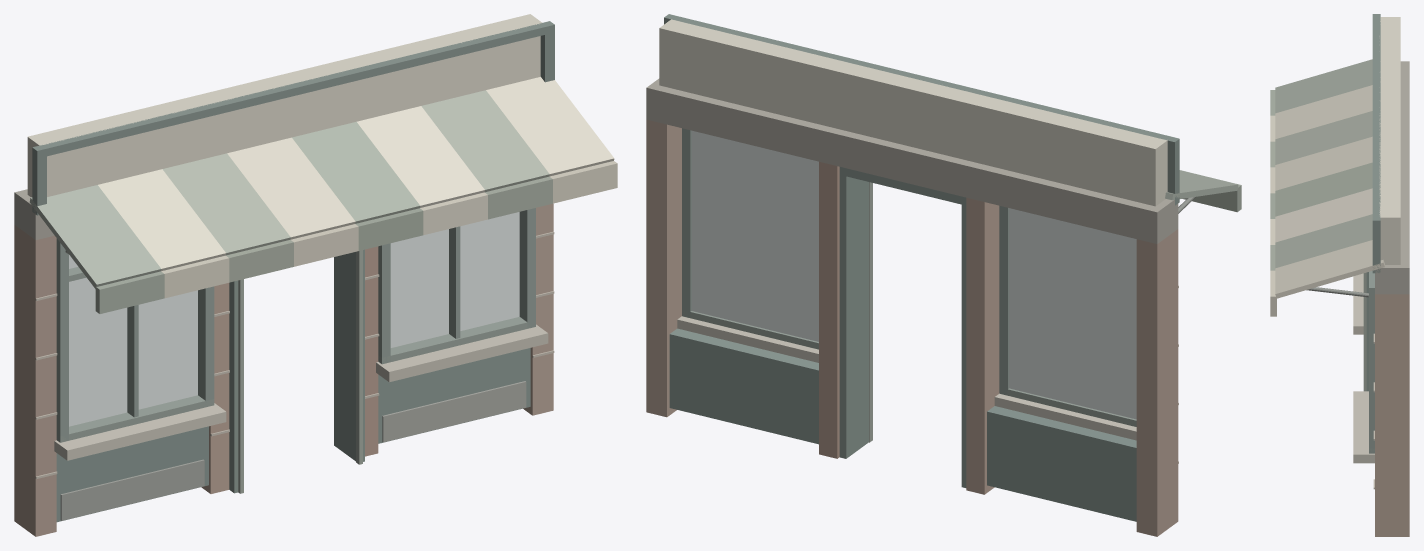
The picture shows the model from 3 angles, left to right: view 1: azimuth 30°, elevation 25°; view 2: azimuth 150°, elevation 25°; view 3: azimuth 270°, elevation 25°; orthographic projection. The views are drawn at different scales.
Parts seen in each view (by area): view 1: Blank_Shop_Sign_Board, Left_Display_Clear_Glass, Brick_Pier_Outer_Left, Right_Display_Clear_Glass, Awning_Canvas_Stripe_01, Sign_Frame_Top, Awning_Canvas_Stripe_04, Awning_Canvas_Stripe_07, Awning_Canvas_Stripe_05, Awning_Canvas_Stripe_02, Awning_Canvas_Stripe_03, Awning_Canvas_Stripe_06 (+33 smaller); view 2: Blank_Shop_Sign_Board, Left_Display_Clear_Glass, Right_Display_Clear_Glass, Continuous_Structural_Lintel, Brick_Pier_Outer_Left, Left_Window_Lower_Timber_Panel, Right_Window_Lower_Timber_Panel, Brick_Pier_Outer_Right, Brick_Pier_Door_Left, Open_Doorway_Right_Jamb, Brick_Pier_Door_Right, Sign_Frame_Top (+12 smaller); view 3: Brick_Pier_Outer_Right, Blank_Shop_Sign_Board, Awning_Canvas_Stripe_08, Continuous_Structural_Lintel, Awning_Canvas_Stripe_05, Awning_Canvas_Stripe_06, Awning_Canvas_Stripe_02, Awning_Canvas_Stripe_07, Awning_Canvas_Stripe_01, Awning_Canvas_Stripe_04, Awning_Canvas_Stripe_03, Sign_Frame_Top (+8 smaller).
Boxes of the visible parts, box(x1,y1,x2,y2) form: Blank_Shop_Sign_Board: box(27, 14, 542, 197); Left_Display_Clear_Glass: box(69, 255, 197, 426); Brick_Pier_Outer_Left: box(14, 225, 56, 536); Right_Display_Clear_Glass: box(390, 212, 519, 347); Awning_Canvas_Stripe_01: box(29, 185, 161, 288); Sign_Frame_Top: box(33, 21, 554, 156); Awning_Canvas_Stripe_04: box(227, 137, 355, 239); Awning_Canvas_Stripe_07: box(421, 90, 549, 192); Awning_Canvas_Stripe_05: box(292, 121, 420, 223); Awning_Canvas_Stripe_02: box(98, 169, 225, 271); Awning_Canvas_Stripe_03: box(162, 153, 290, 255); Awning_Canvas_Stripe_06: box(357, 106, 484, 207); Blank_Shop_Sign_Board: box(659, 19, 1167, 206); Left_Display_Clear_Glass: box(1009, 208, 1136, 419); Right_Display_Clear_Glass: box(691, 130, 818, 341); Continuous_Structural_Lintel: box(646, 78, 1178, 243); Brick_Pier_Outer_Left: box(1136, 229, 1178, 536); Left_Window_Lower_Timber_Panel: box(987, 406, 1136, 521); Right_Window_Lower_Timber_Panel: box(669, 328, 818, 444); Brick_Pier_Outer_Right: box(646, 119, 681, 417); Brick_Pier_Door_Left: box(966, 197, 999, 494); Open_Doorway_Right_Jamb: box(839, 170, 868, 458); Brick_Pier_Door_Right: box(819, 161, 839, 458); Sign_Frame_Top: box(664, 14, 1179, 146); Brick_Pier_Outer_Right: box(1375, 294, 1409, 536); Blank_Shop_Sign_Board: box(1379, 17, 1400, 264); Awning_Canvas_Stripe_08: box(1275, 240, 1384, 298); Continuous_Structural_Lintel: box(1375, 61, 1409, 294); Awning_Canvas_Stripe_05: box(1275, 162, 1372, 216); Awning_Canvas_Stripe_06: box(1275, 188, 1372, 242); Awning_Canvas_Stripe_02: box(1275, 85, 1372, 138); Awning_Canvas_Stripe_07: box(1275, 214, 1372, 268); Awning_Canvas_Stripe_01: box(1275, 59, 1372, 113); Awning_Canvas_Stripe_04: box(1275, 136, 1372, 190); Awning_Canvas_Stripe_03: box(1275, 111, 1372, 164); Sign_Frame_Top: box(1372, 14, 1380, 226).
Bounding box in the file's own units: 4.2 × 3 × 1.2.
